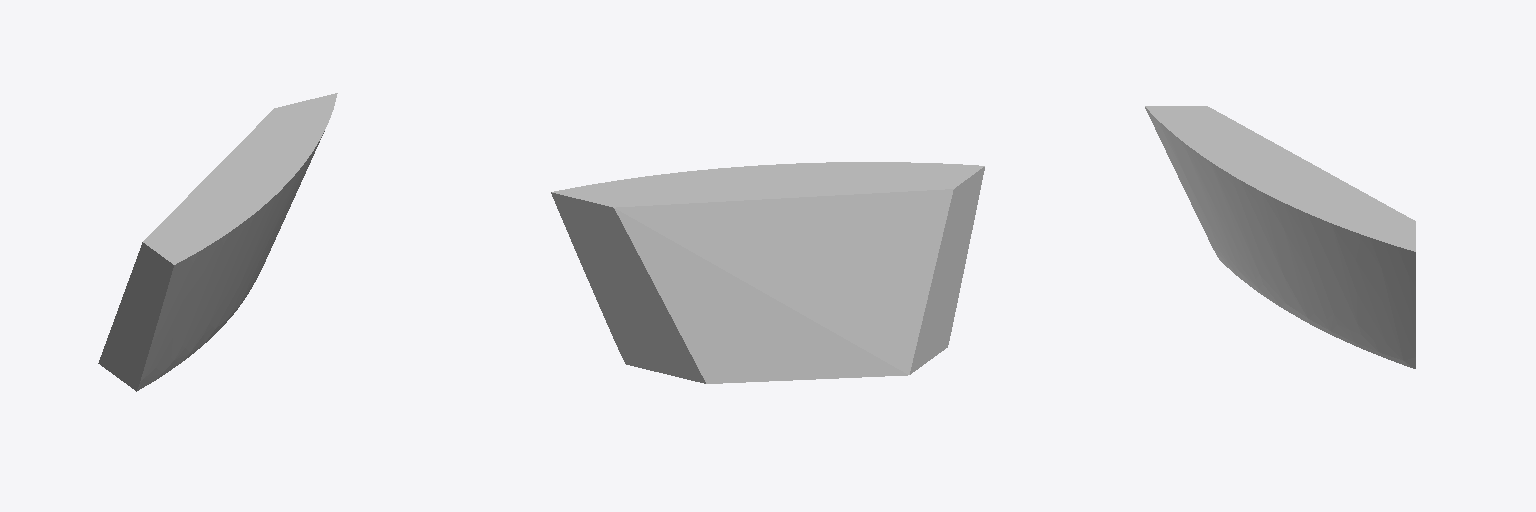
The model's file is skillet_collision_31.obj.
3 views of the same model, side by side, from view 1: azimuth 30°, elevation 25°; view 2: azimuth 150°, elevation 25°; view 3: azimuth 270°, elevation 25° (orthographic).
Bounding box in the file's own units: 0.0461 × 0.0227 × 0.0362.